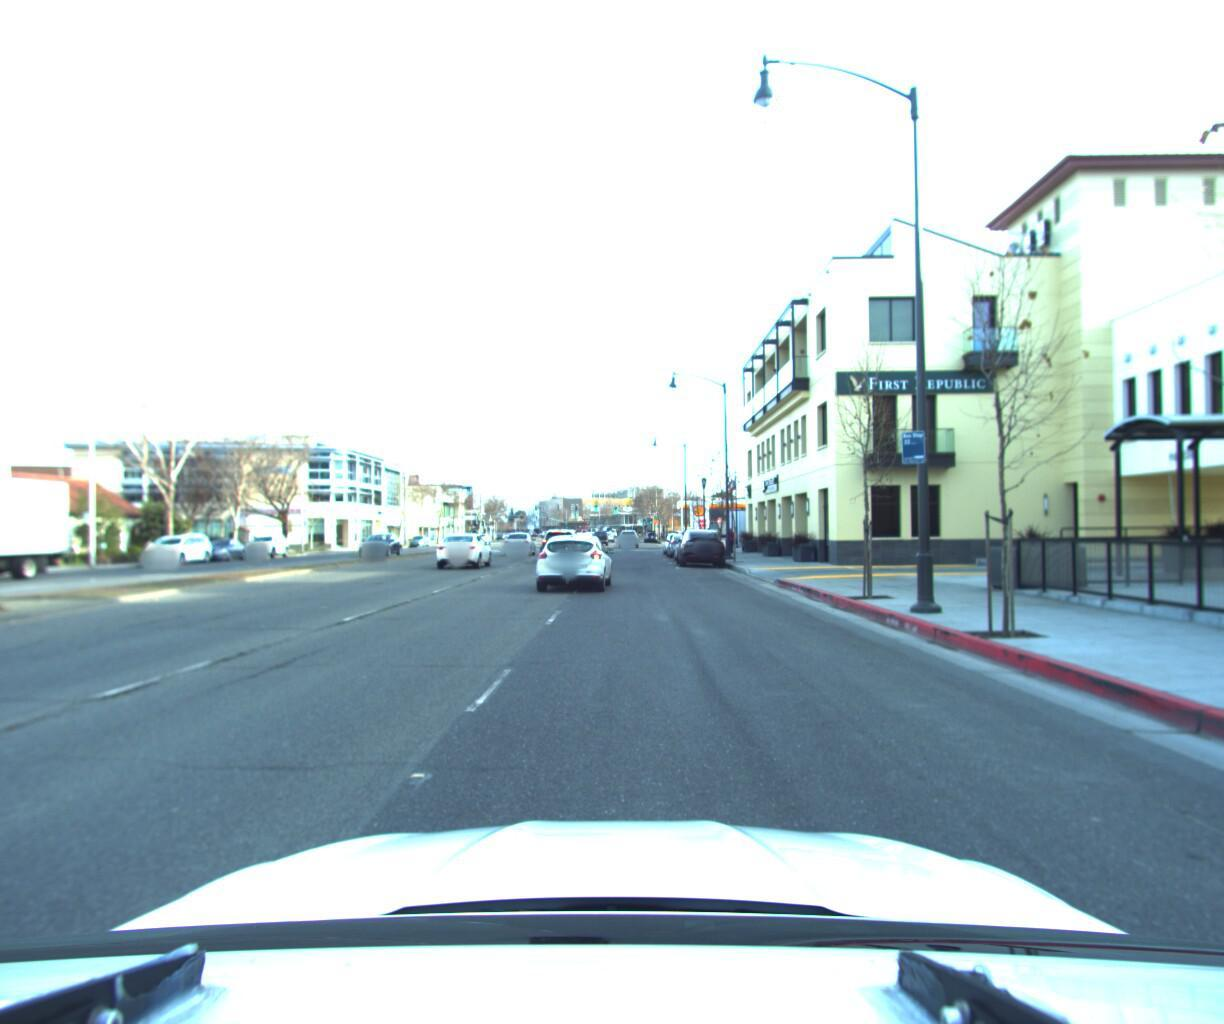car: (531, 530, 611, 592), (139, 533, 220, 567), (433, 528, 495, 569), (677, 526, 726, 566), (540, 523, 584, 563), (195, 537, 253, 563), (241, 531, 293, 559), (354, 533, 403, 561), (500, 533, 537, 555), (569, 524, 597, 551), (618, 526, 639, 546), (593, 526, 612, 543)
